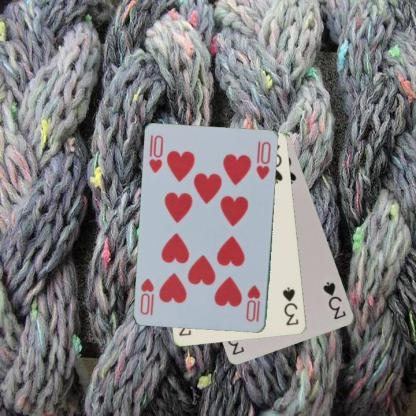10h: (244, 282, 262, 324), (146, 133, 164, 175)
3s: (320, 279, 348, 321), (280, 285, 300, 327)
